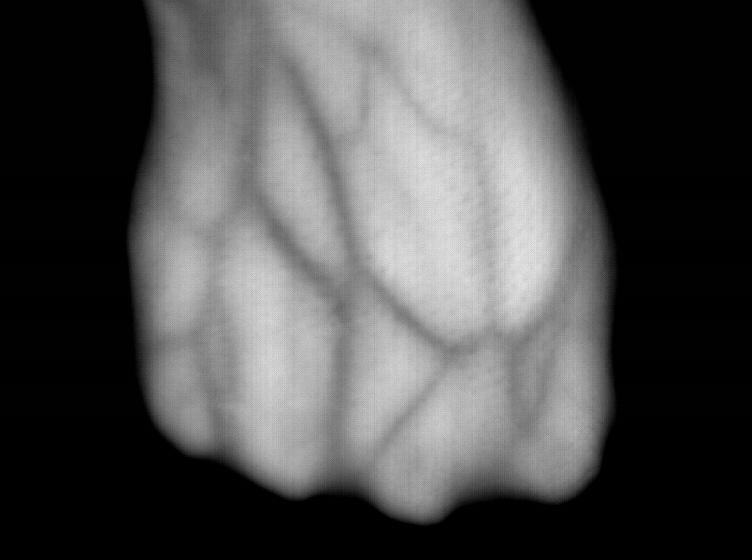Vein: (236, 60, 480, 360)
